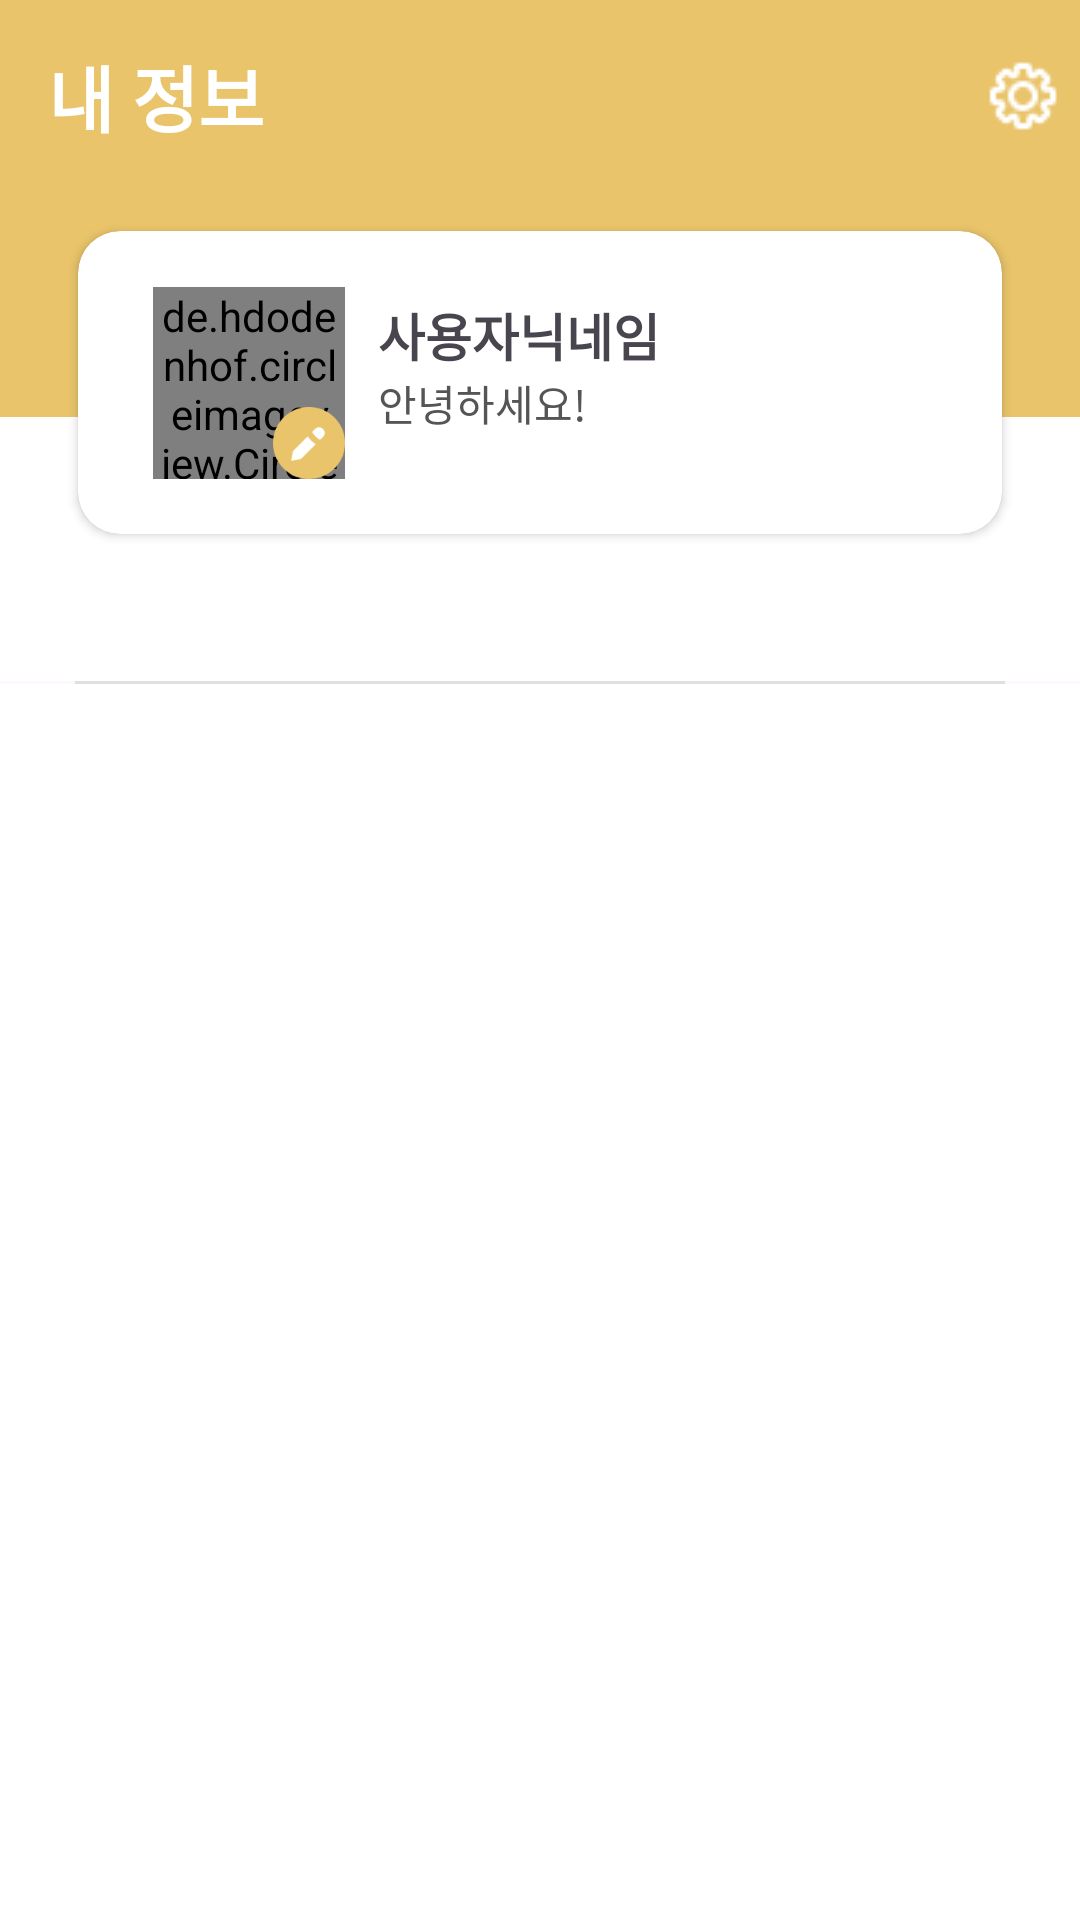

Point at icon controls on the screen. Image size 1080w x 1920h, points as point (x, y).
mypage baseline create: point (309, 443)
setting: point (1023, 96)
